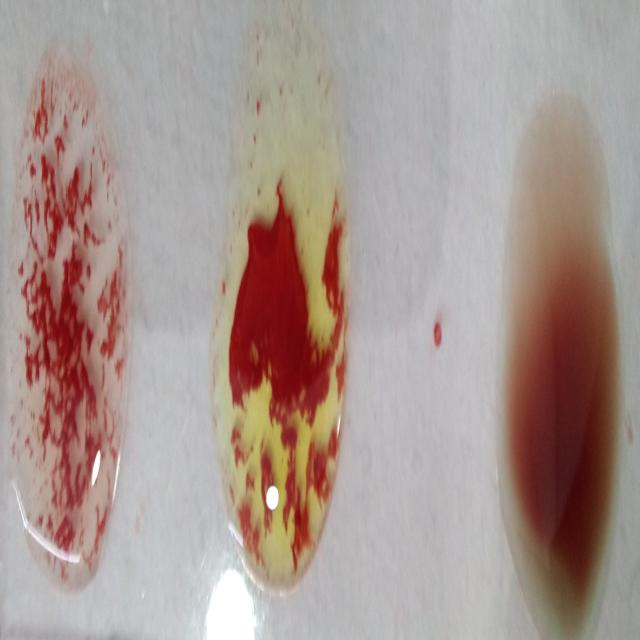B: (220, 59, 347, 604)
D: (11, 87, 130, 601)
